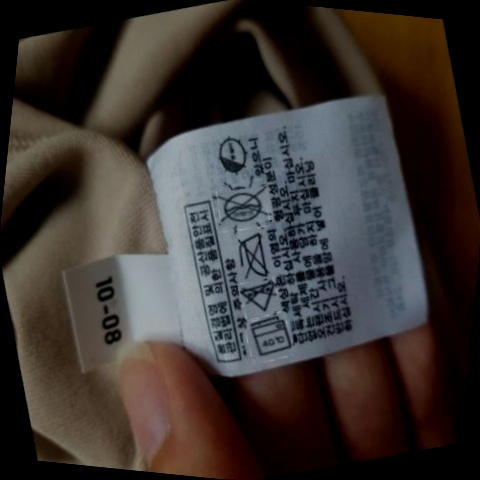40C: (245, 314, 295, 359)
DN_dry_clean: (217, 182, 274, 230)
DN_iron: (230, 227, 276, 284)
line_dry_in_shade: (211, 129, 253, 180)
non_chlorine_bleach: (241, 274, 281, 316)
